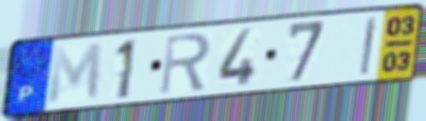1: (113, 37, 139, 101)
4: (214, 26, 259, 89)
7: (285, 19, 328, 86)
I: (357, 14, 381, 77)
M: (45, 41, 105, 107)
R: (157, 31, 214, 98)
